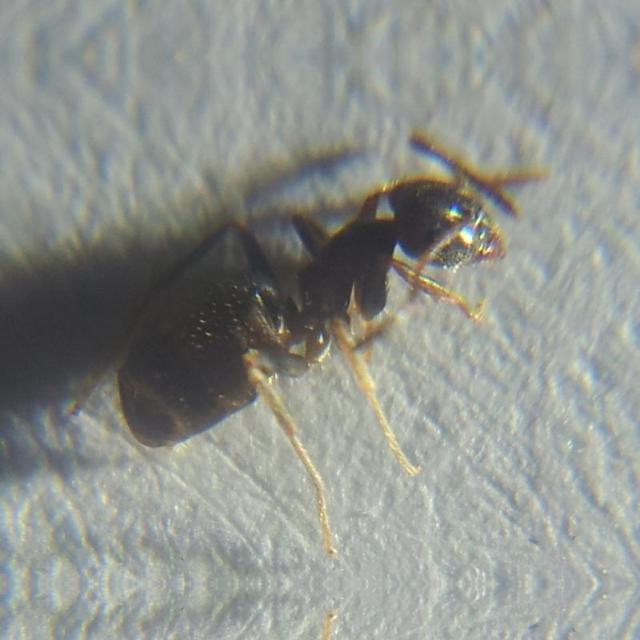Lasius: (86, 134, 594, 506)
